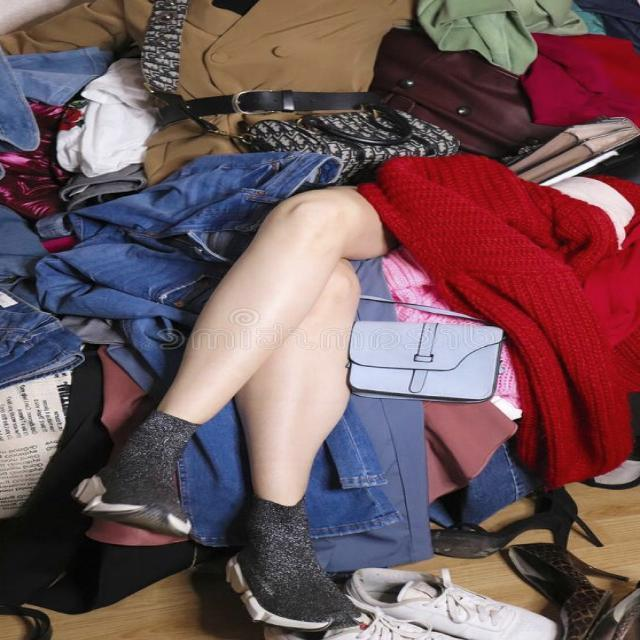clothes: (34, 34, 564, 178), (394, 192, 626, 480)
